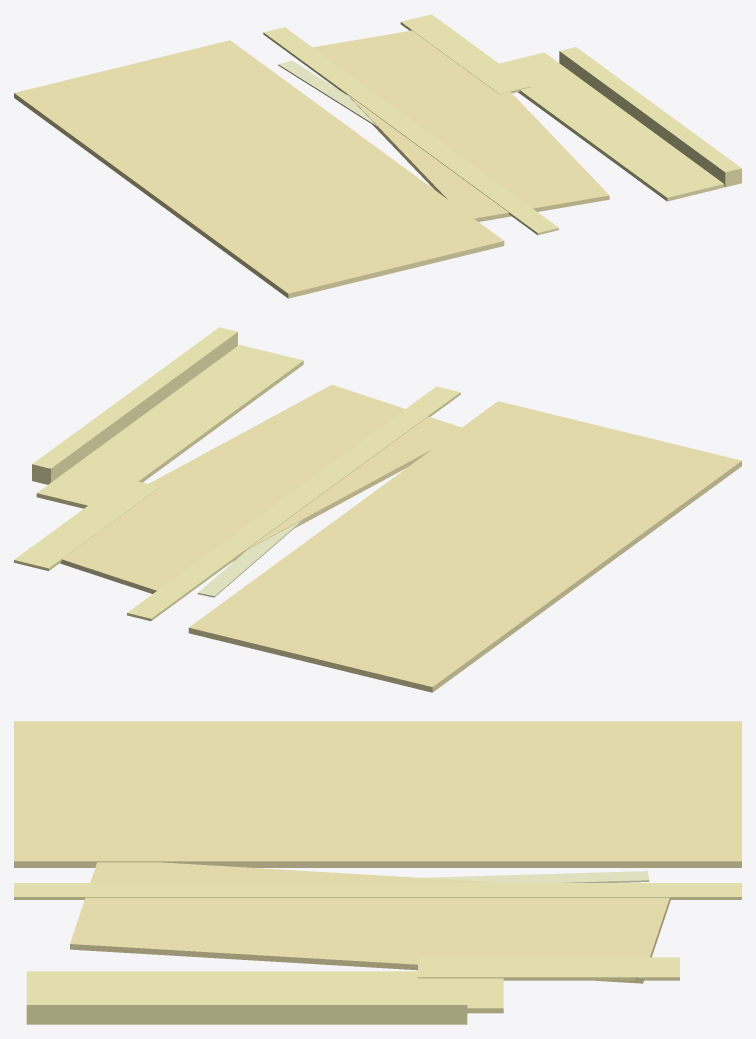
Rendered from road_curbside_loading_bay.glb.
The picture shows the model from 3 angles, top to bottom: view 1: azimuth 30°, elevation 25°; view 2: azimuth 150°, elevation 25°; view 3: azimuth 270°, elevation 25°; orthographic projection. The views are drawn at different scales.
Visible parts, largest first — view 1: through_lane, loading_bay, bay_apron, gutter_band, curb_band, buffer_pad, joint_band; view 2: through_lane, loading_bay, bay_apron, gutter_band, curb_band, buffer_pad, joint_band; view 3: through_lane, loading_bay, curb_band, bay_apron, gutter_band, buffer_pad, joint_band.
Boxes of the visible parts, x1,y1,x2,y2 form: through_lane: (14,40,504,298); loading_bay: (313,24,609,221); bay_apron: (499,52,724,201); gutter_band: (263,27,558,235); curb_band: (559,47,741,187); buffer_pad: (400,14,530,94); joint_band: (278,60,377,127); through_lane: (188,401,741,692); loading_bay: (29,385,461,593); bay_apron: (36,344,303,508); gutter_band: (127,386,460,620); curb_band: (32,327,237,484); buffer_pad: (14,478,159,570); joint_band: (197,520,302,597); through_lane: (14,721,741,867); loading_bay: (70,862,670,983); curb_band: (26,994,467,1024); bay_apron: (26,971,503,1013); gutter_band: (14,883,741,899); buffer_pad: (418,957,679,980); joint_band: (420,871,649,882).
Bounding box in the file's own units: 3.86 × 0.12 × 4.
